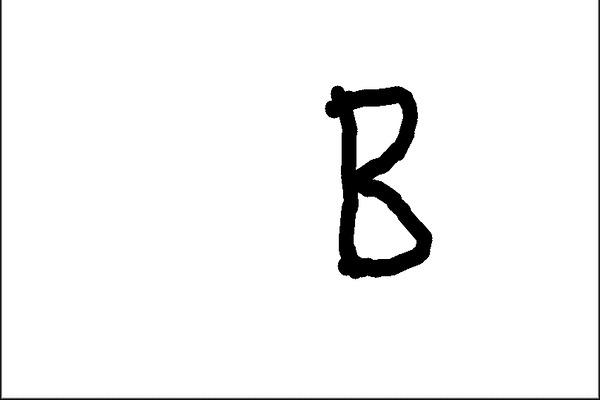B: (312, 77, 447, 286)
